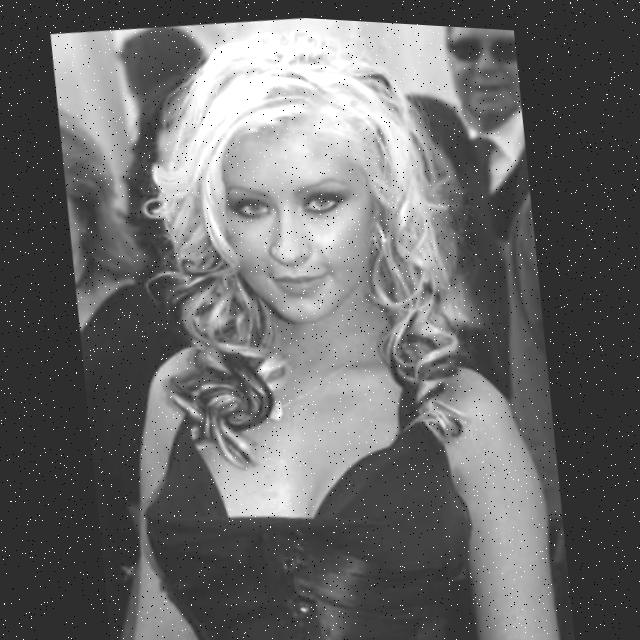face: (200, 124, 400, 332), (442, 26, 525, 141)
